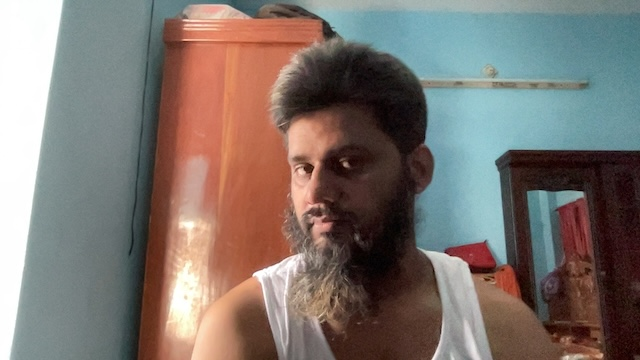Helmet: (245, 40, 434, 292)
